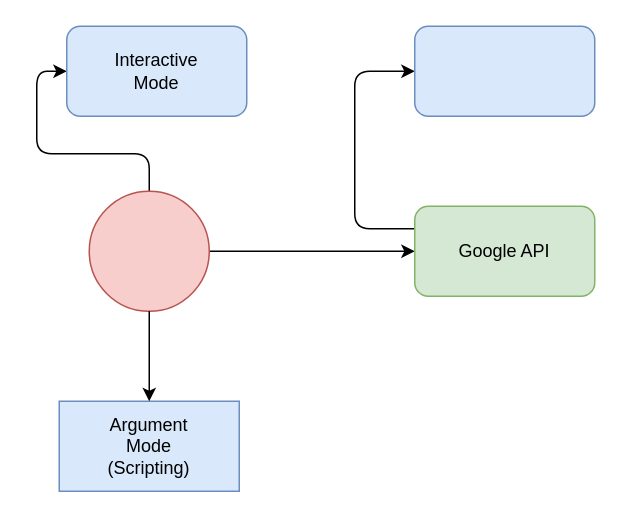
This 621x518 diagram has some shape labels left out. Here are the shapes that lost their labels. From the top down, the box of each, then its label:
(413, 25, 595, 116): Interactive Mode (Google Services)
(88, 190, 209, 311): calCLI Core
